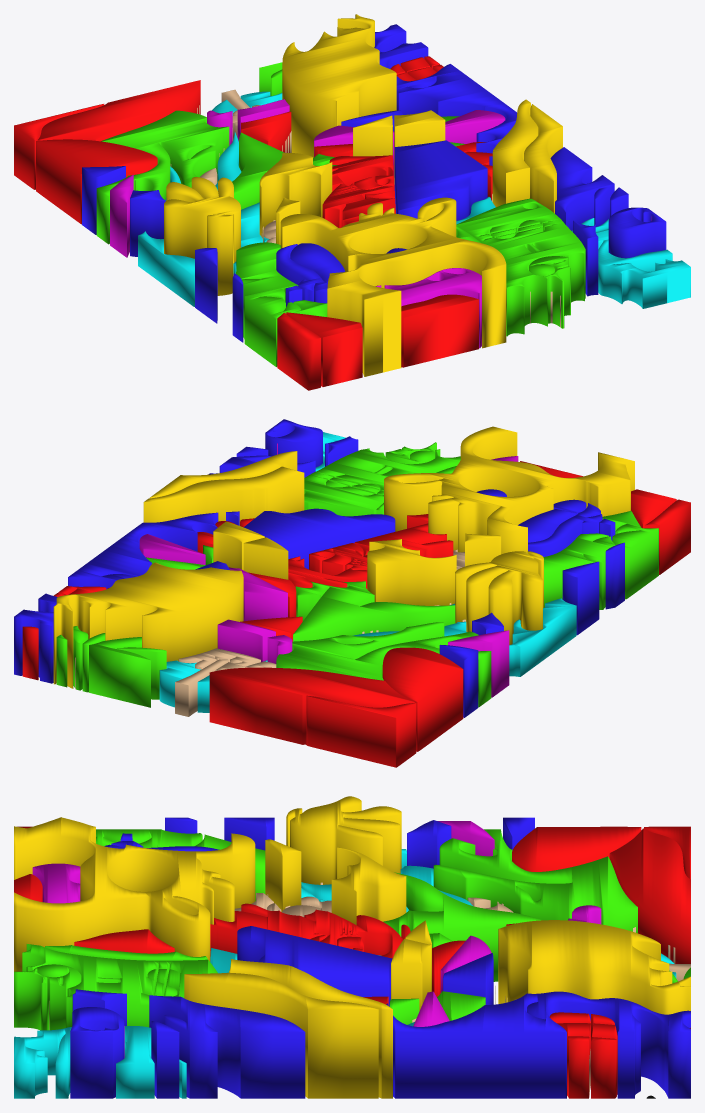
The model's file is fresque_baloon.fbx.
3 views of the same model, one above another, from view 1: azimuth 30°, elevation 25°; view 2: azimuth 150°, elevation 25°; view 3: azimuth 270°, elevation 25° (orthographic). The views are drawn at different scales.
Visible parts, largest first — view 1: path4, path1, path2, path0, path3, path5, path6; view 2: path4, path1, path0, path2, path5, path3, path6; view 3: path4, path2, path0, path1, path3, path5, path6.
Boxes of the visible parts, x1,y1,x2,y2 form: path4: [164, 14, 562, 376]; path1: [14, 56, 492, 390]; path2: [82, 24, 666, 342]; path0: [96, 62, 585, 366]; path3: [138, 91, 690, 308]; path5: [110, 99, 651, 348]; path6: [170, 89, 560, 327]; path4: [53, 426, 634, 688]; path1: [22, 461, 690, 767]; path0: [56, 442, 658, 707]; path2: [14, 419, 624, 717]; path5: [139, 443, 518, 697]; path3: [159, 432, 576, 712]; path6: [75, 549, 465, 716]; path4: [14, 796, 690, 1098]; path2: [70, 817, 690, 1098]; path0: [14, 829, 690, 1030]; path1: [14, 826, 690, 1098]; path3: [14, 849, 676, 1098]; path5: [32, 821, 601, 1057]; path6: [49, 882, 690, 1094].
Bounding box in the file's own units: 445 × 85.99 × 593.
